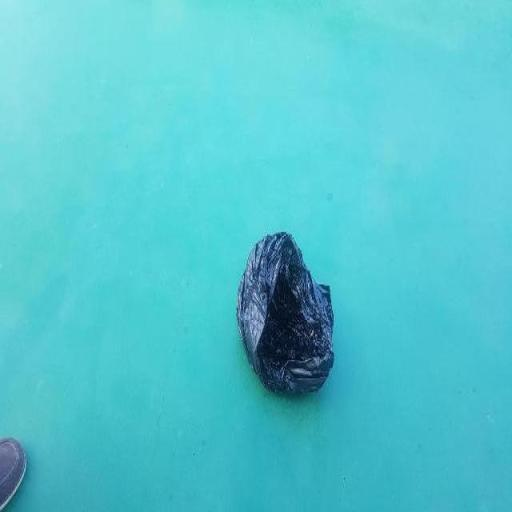plastic-bag: (236, 230, 338, 402)
